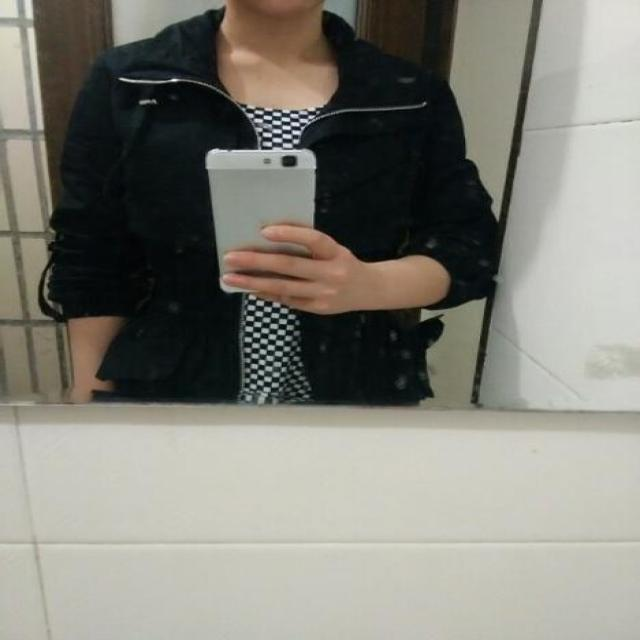long sleeve outwear: (49, 10, 248, 402)
